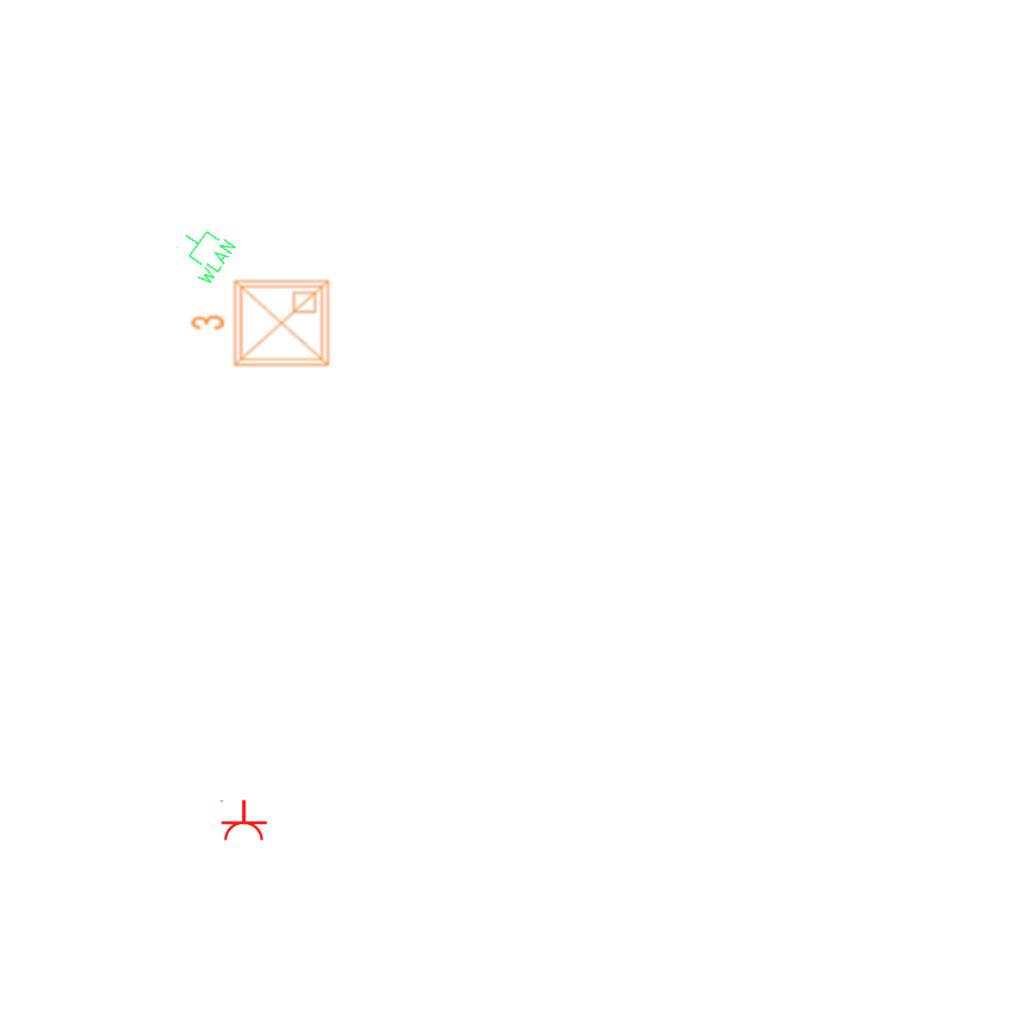Einbaudownlights_LED_Konferenzraeume: (186, 273, 336, 377)
Schukosteckdose_einfach: (218, 799, 268, 842)
WLAN: (166, 216, 240, 290)
